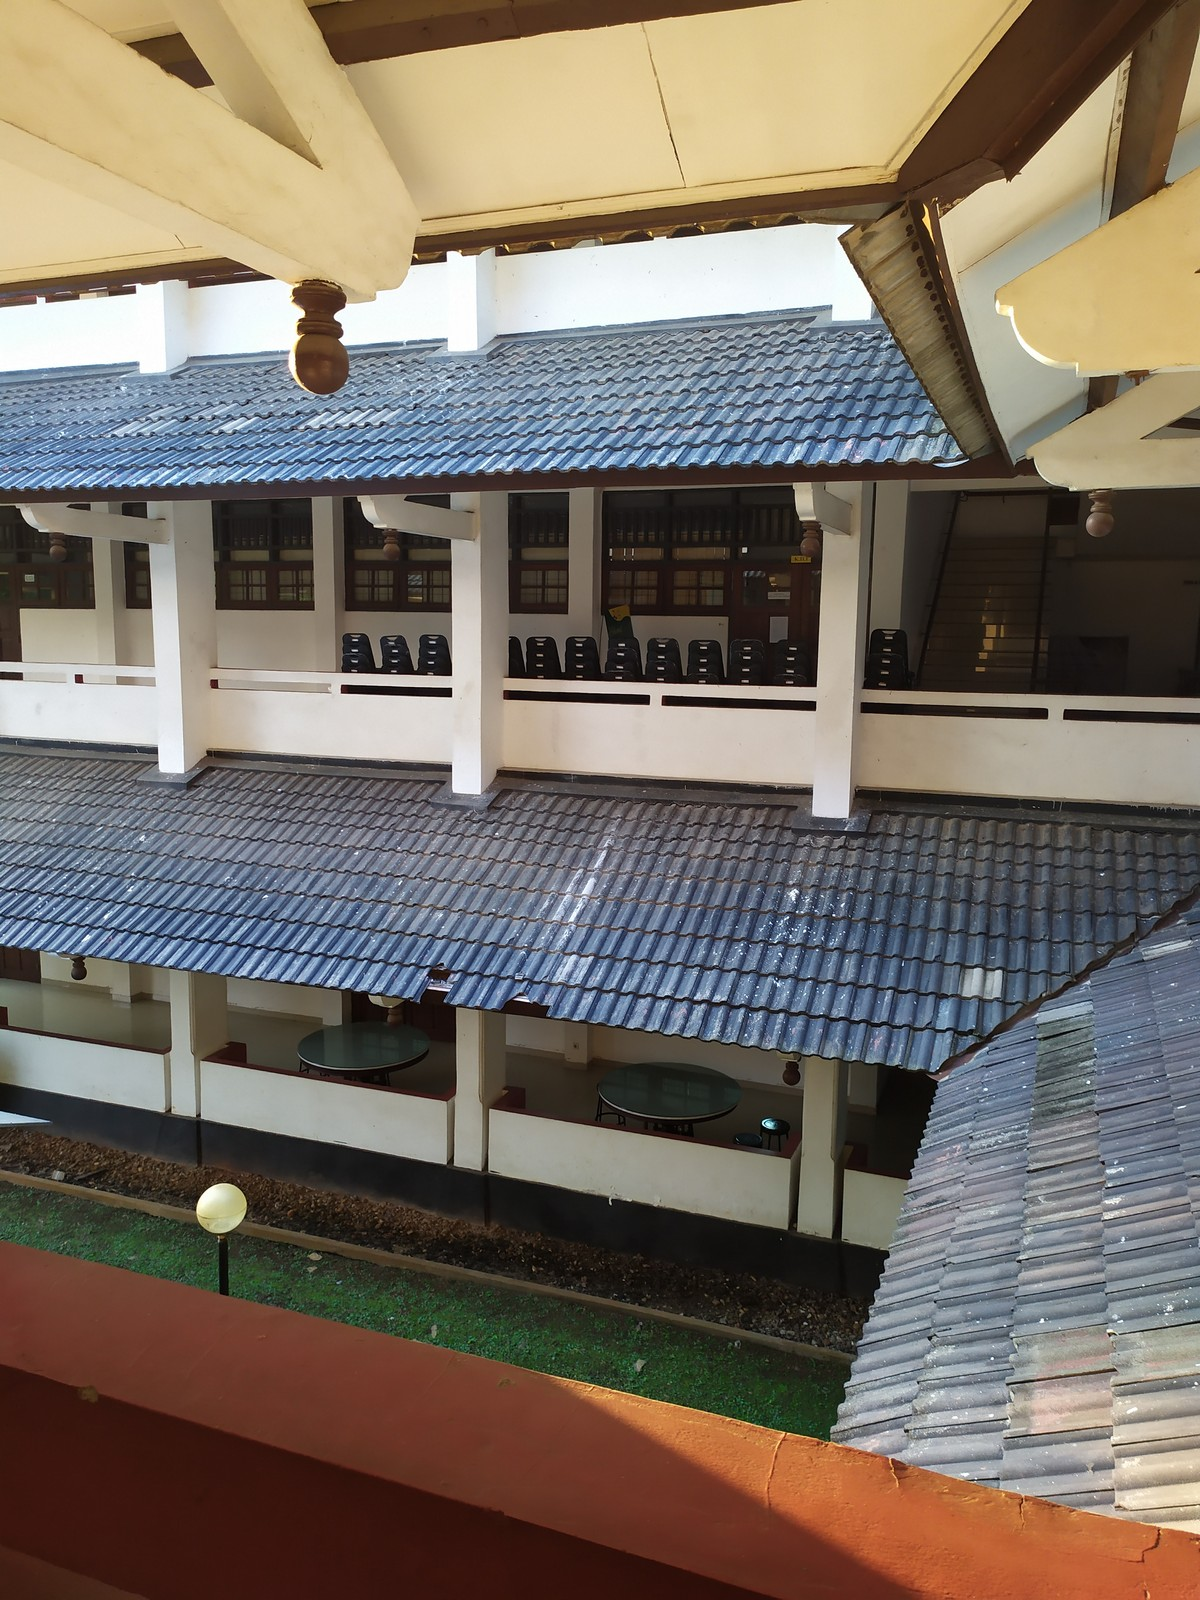concrete column: (141, 489, 232, 784), (804, 500, 880, 829), (441, 493, 521, 794), (161, 963, 234, 1129), (446, 1002, 513, 1170)
